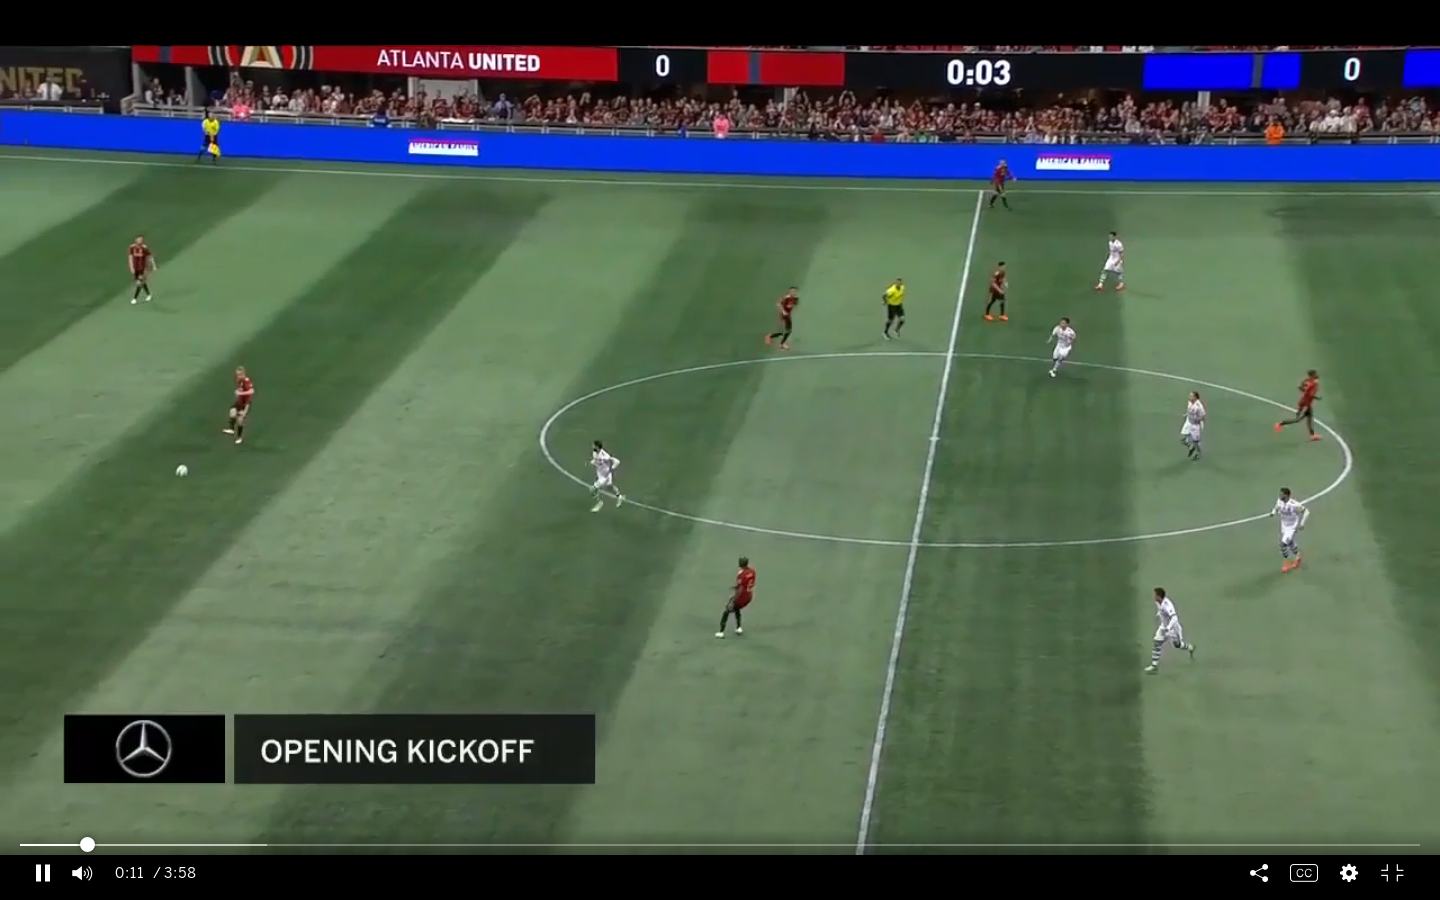referee: (876, 274, 913, 346), (196, 109, 222, 168)
soccer player: (712, 552, 765, 642), (1145, 586, 1199, 672), (1270, 369, 1327, 445), (1268, 488, 1312, 576), (221, 366, 261, 449), (765, 283, 807, 359), (1178, 385, 1210, 468), (125, 236, 162, 308), (587, 439, 622, 512), (1095, 226, 1132, 296), (1042, 319, 1082, 380), (984, 256, 1013, 329), (987, 152, 1016, 219)
soccerball: (172, 460, 190, 483)
